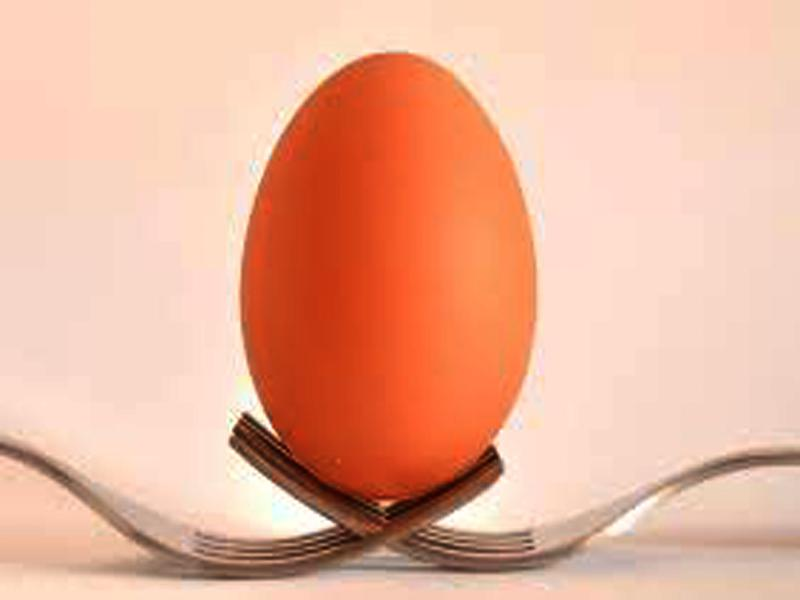Eggs: (241, 54, 536, 499)
